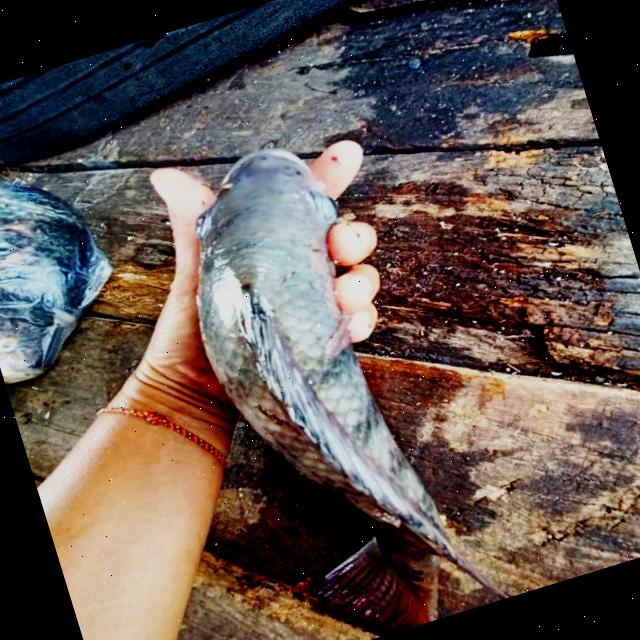Tilapia Lake Virus -TiLV-: (196, 150, 494, 628)
